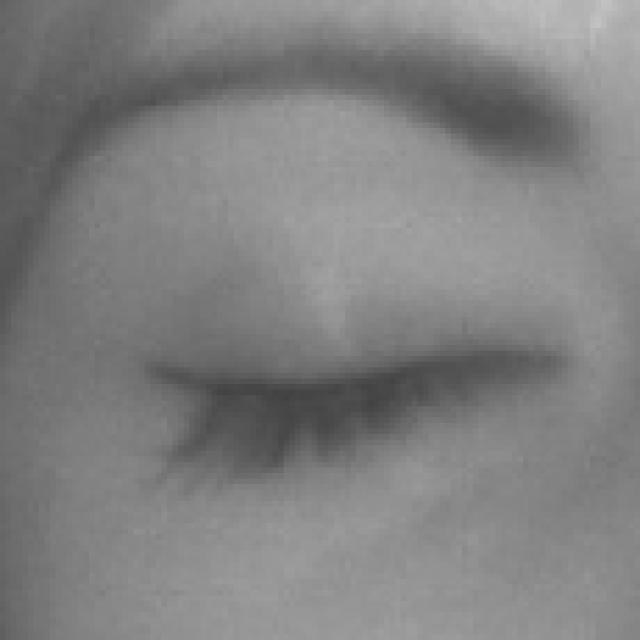Eyeclosed: (146, 218, 574, 587)
